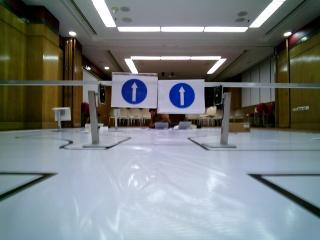straight: (158, 77, 207, 114), (114, 73, 159, 107)
